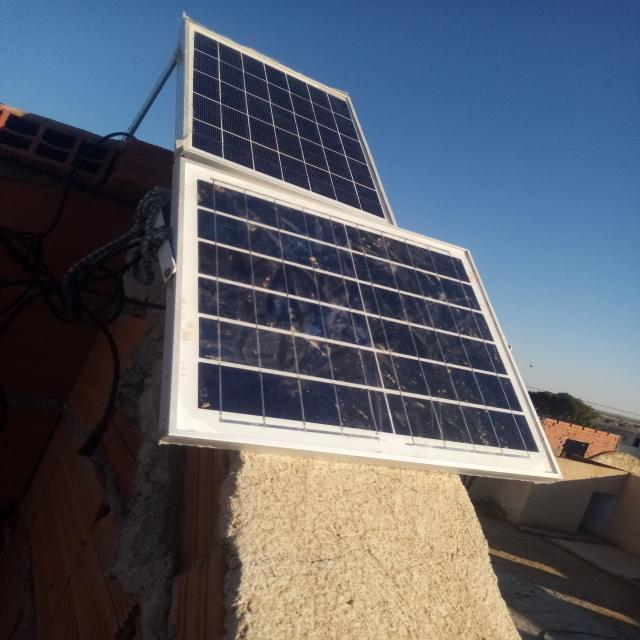faulty: (171, 161, 562, 477)
no faulty: (187, 23, 397, 223)
